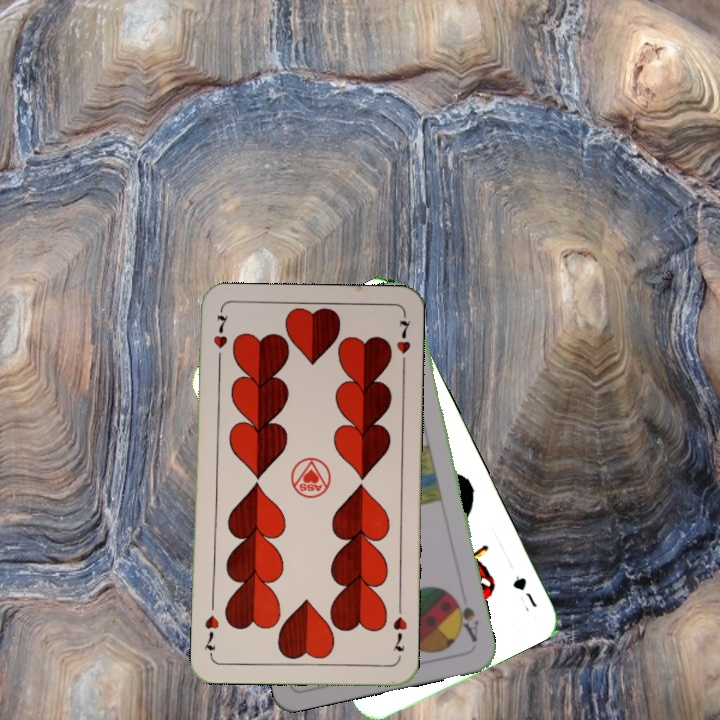GU: (509, 571, 540, 615)
H7: (209, 308, 229, 367), (389, 601, 410, 654)
SA: (449, 590, 482, 645)
